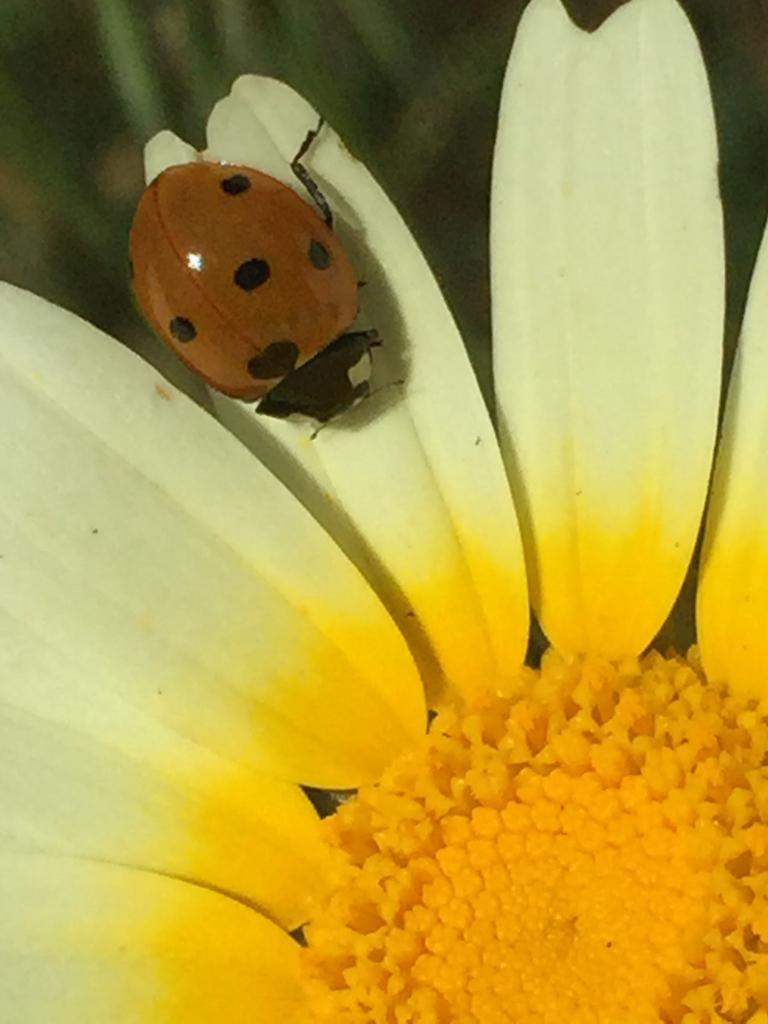ladybug: (124, 109, 414, 446)
